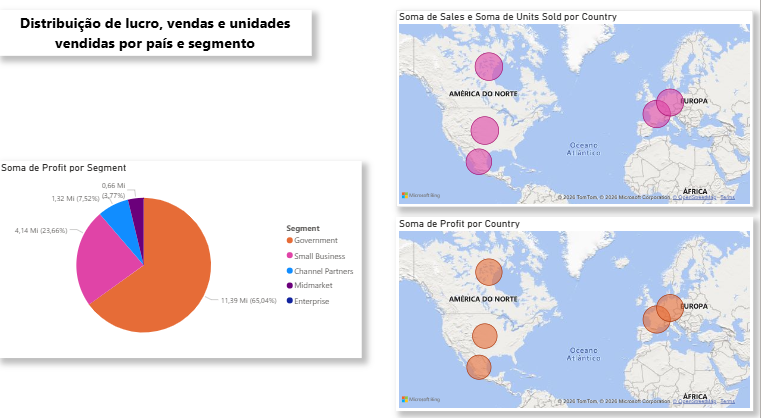

What the dashboard file says about the page in this screenshot:
{"tool":"powerbi","page":{"name":"Página 3","canvas":[1280,720],"ordinal":2},"visuals":[{"type":"map","fields":{"Category":["financials.Country"],"Size":["Sum(financials.Sales)"]},"box":[668.6,28.6,599.7,330.9],"z":0},{"type":"map","fields":{"Category":["financials.Country"],"Size":["Sum(financials.Profit)"]},"box":[668.6,376.3,599.7,325.9],"z":1},{"type":"pieChart","fields":{"Category":["financials.Segment"],"Y":["Sum(financials.Profit)"]},"box":[0,282.2,611.4,330.9],"z":2},{"type":"textbox","box":[0,28.6,527.5,77.3],"z":3}]}

Visuals, with their boxes in screenshot pixels (x1, y1, x2, y2), scaled from the page's 1280x720 canvas onto the 761x418 screenshot:
map - financials.Country x Sum(financials.Sales): x1=398 y1=17 x2=754 y2=209
map - financials.Country x Sum(financials.Profit): x1=398 y1=218 x2=754 y2=408
pieChart - financials.Segment x Sum(financials.Profit): x1=0 y1=164 x2=363 y2=356
textbox: x1=0 y1=17 x2=314 y2=61
